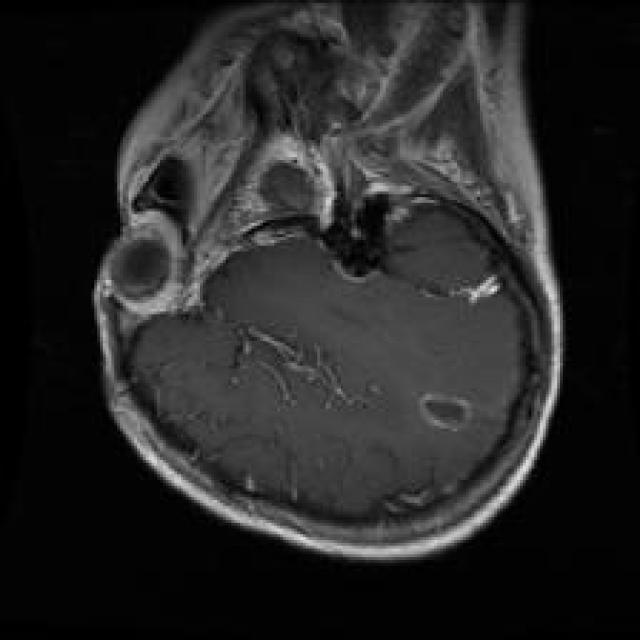glioma_tumor: (399, 374, 512, 438)
